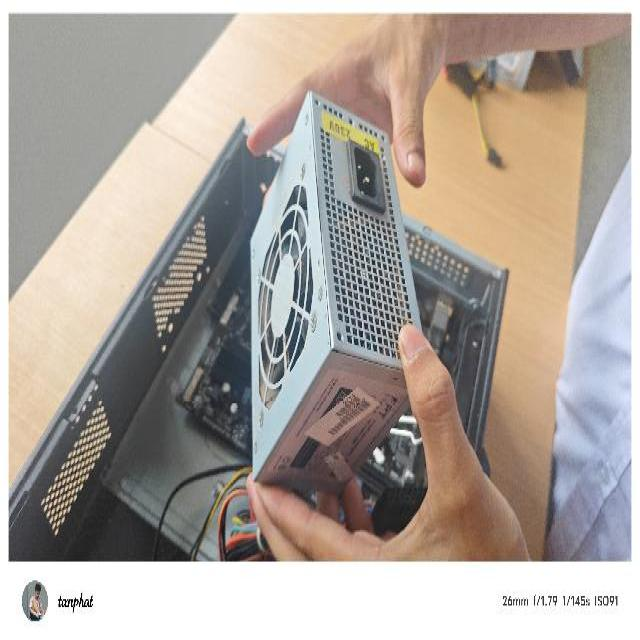PSU: (241, 84, 428, 507)
